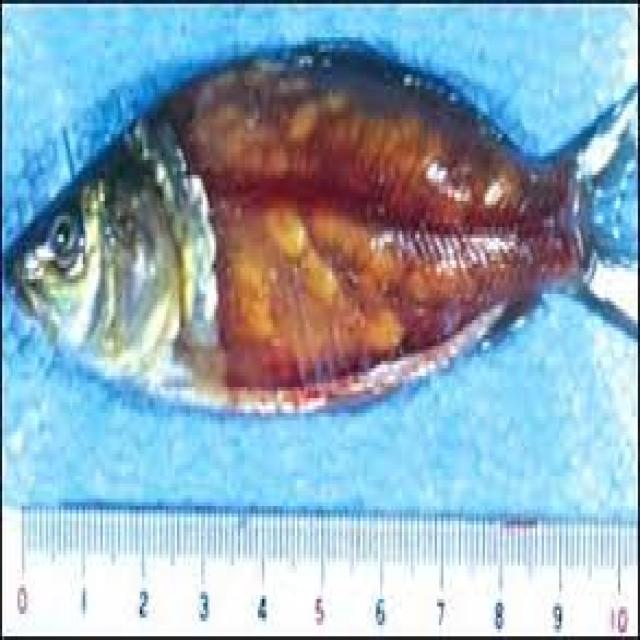EUS Disease: (2, 42, 640, 417), (161, 42, 586, 428)
